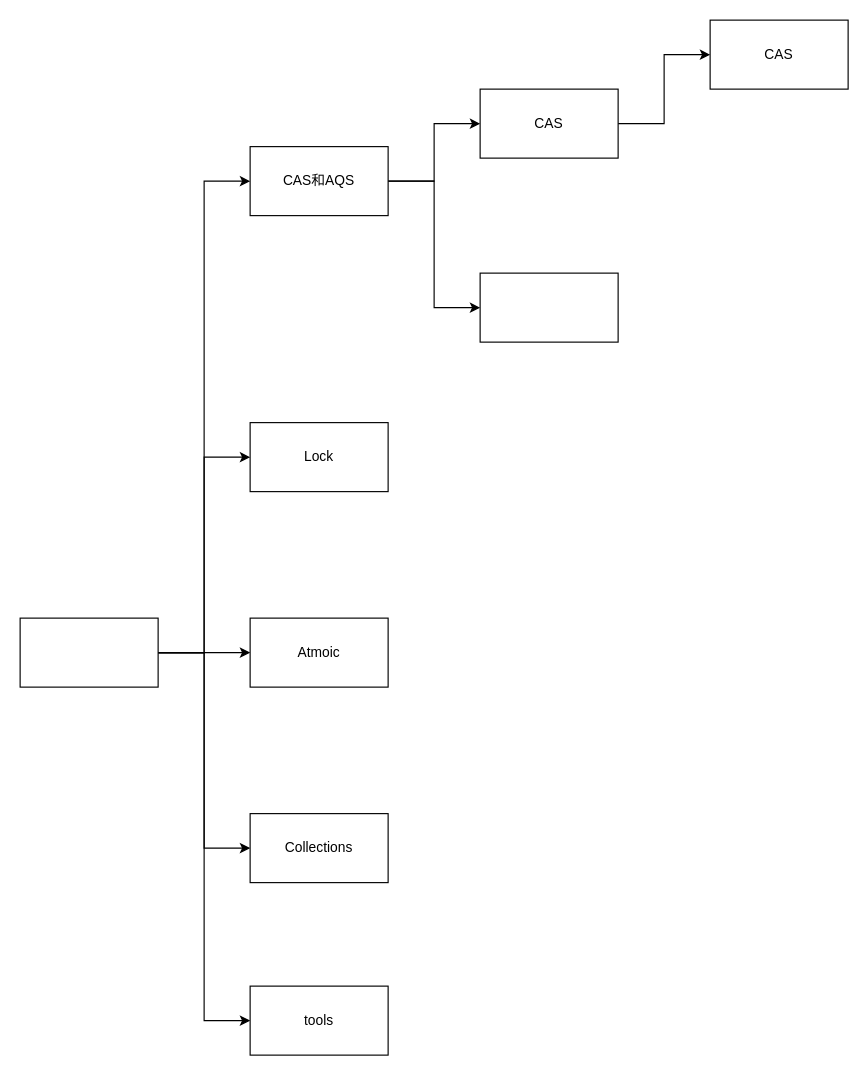
Image size: 868x1075. Some labels were removed from this diagram. The shapes that lost their labels are listed below. From the top down, each one's centre as x and y in pixels, then its label:
(548,307): AQS
(88,652): JUC
